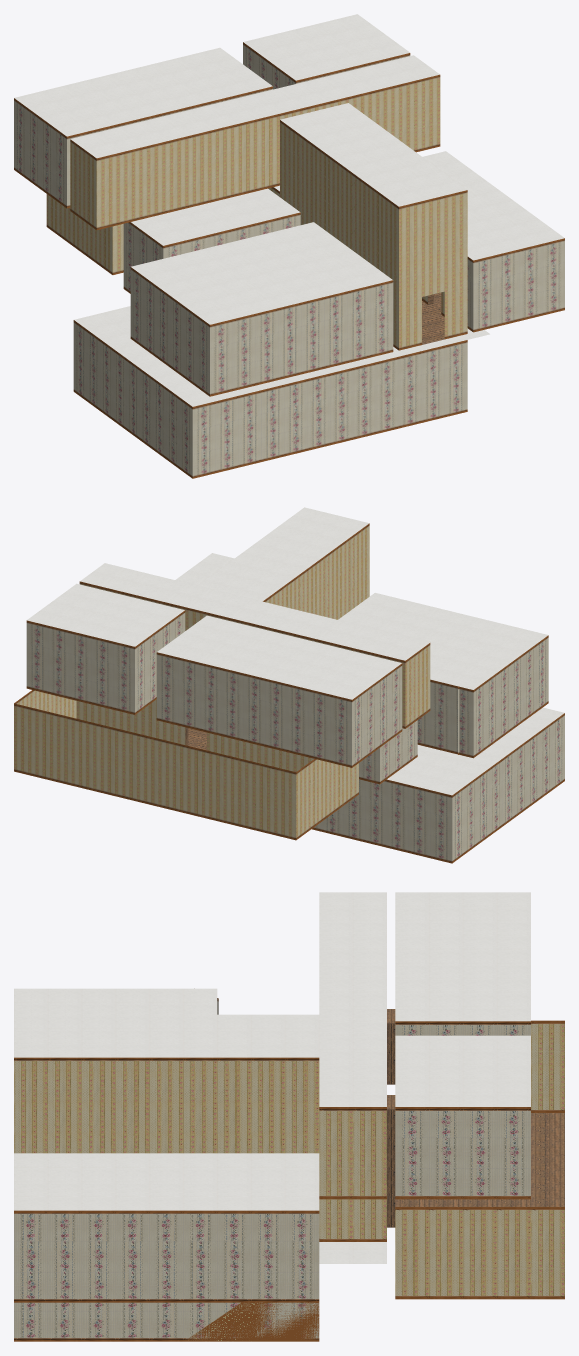
File: casa-colisor.fbx
3 renders of one model, top to bottom at view 1: azimuth 30°, elevation 25°; view 2: azimuth 150°, elevation 25°; view 3: azimuth 270°, elevation 25°, orthographic. The views are drawn at different scales.
Visible parts, largest first — view 1: Plane.2384; view 2: Plane.2384; view 3: Plane.2384.
Boxes of the visible parts, <box> form: Plane.2384: <box>14,14,564,478</box>; Plane.2384: <box>14,507,564,863</box>; Plane.2384: <box>14,892,564,1341</box>.
Bounding box in the file's own units: 3250 × 1900 × 3250.
